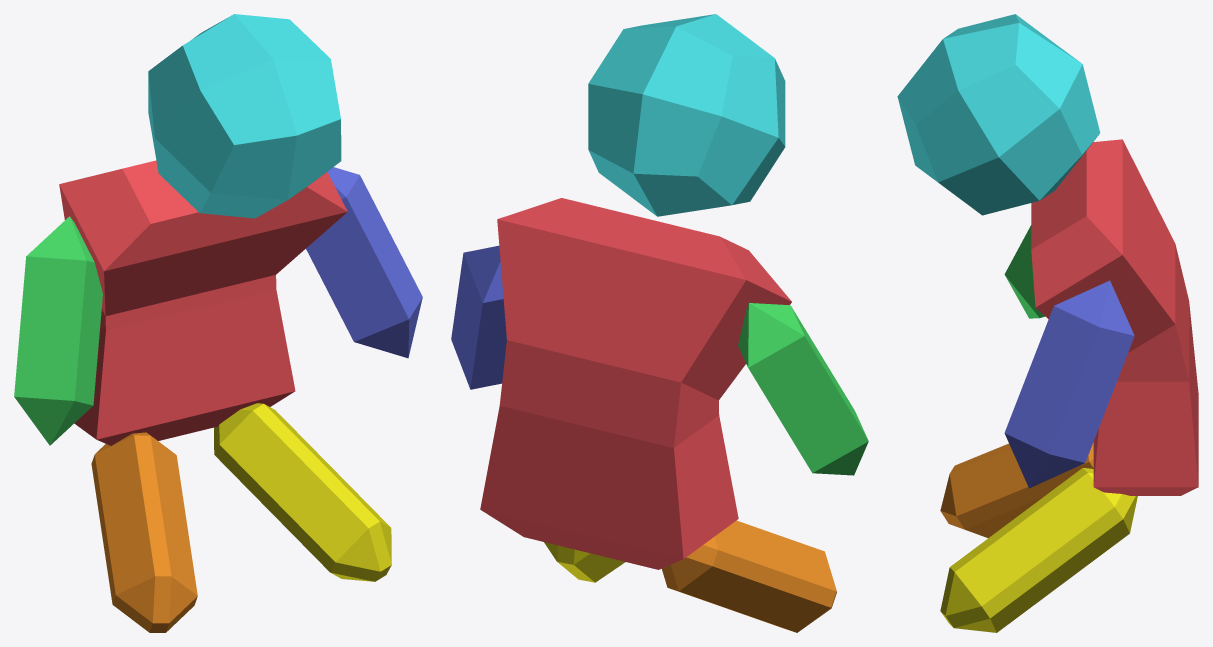
The model's file is TinyPlayerHat.glb.
3 renders of one model, left to right at view 1: azimuth 30°, elevation 25°; view 2: azimuth 150°, elevation 25°; view 3: azimuth 270°, elevation 25°, orthographic. The views are drawn at different scales.
Parts seen in each view (by area): view 1: Torso, Legs, Cube, Arms; view 2: Torso, Cube, Arms, Legs; view 3: Torso, Cube, Legs, Arms.
Part boxes in pixels (x1,y1,x2,y2): Torso: (59, 160, 347, 445); Legs: (91, 403, 391, 632); Cube: (148, 14, 341, 218); Arms: (14, 167, 422, 445); Torso: (480, 198, 791, 569); Cube: (588, 14, 785, 216); Arms: (451, 245, 868, 475); Legs: (544, 520, 836, 632); Torso: (1031, 139, 1198, 495); Cube: (897, 14, 1100, 215); Legs: (940, 442, 1137, 632); Arms: (1004, 225, 1134, 488).
Size of the model in its own units: 0.2163 by 0.292 by 0.142.
